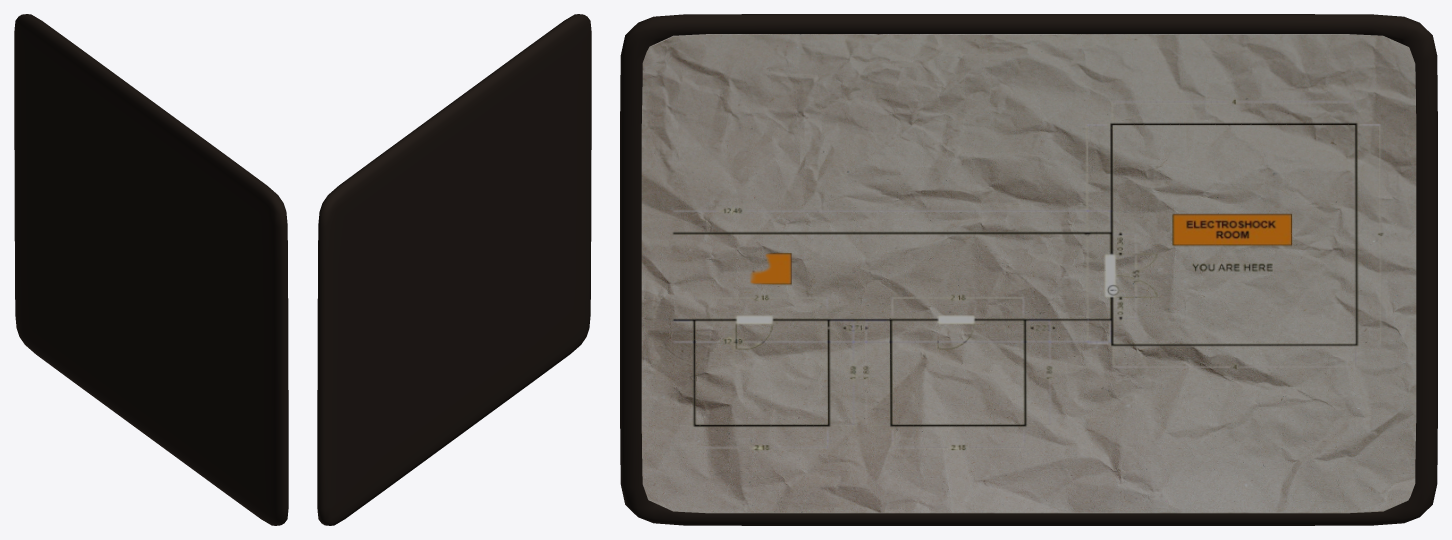
The model's file is MappaStanzaElettroshock.fbx.
The picture shows the model from 3 angles, left to right: view 1: azimuth 30°, elevation 25°; view 2: azimuth 150°, elevation 25°; view 3: azimuth 270°, elevation 25°; orthographic projection. The views are drawn at different scales.
Parts seen in each view (by area): view 1: MappaStanzaElettroshock; view 2: MappaStanzaElettroshock; view 3: MappaStanzaElettroshock.
Part boxes in pixels (x1,y1,x2,y2): MappaStanzaElettroshock: [14, 14, 288, 525]; MappaStanzaElettroshock: [317, 14, 591, 525]; MappaStanzaElettroshock: [620, 14, 1437, 525].
Size of the model in its own units: 4.41 by 112 by 162.
2 materials, 1 textured.
